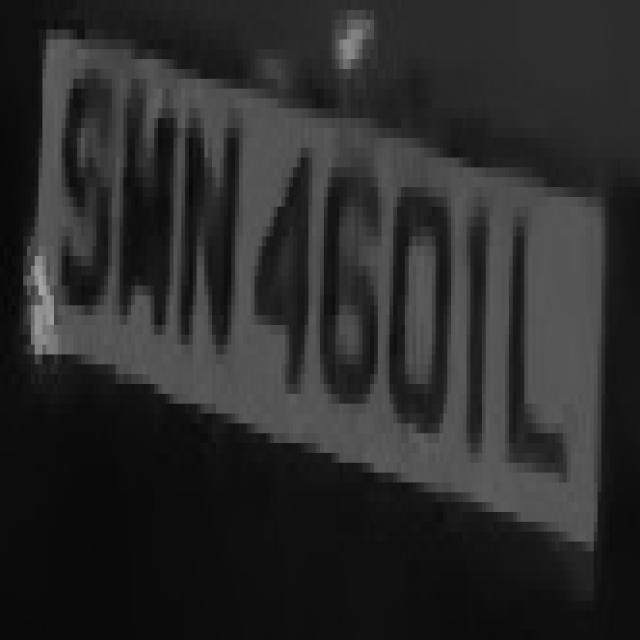0: (385, 168, 455, 472)
1: (451, 187, 501, 502)
4: (250, 118, 328, 404)
6: (328, 118, 386, 443)
L: (505, 177, 586, 522)
M: (112, 69, 173, 394)
N: (170, 69, 254, 364)
S: (50, 39, 120, 344)
